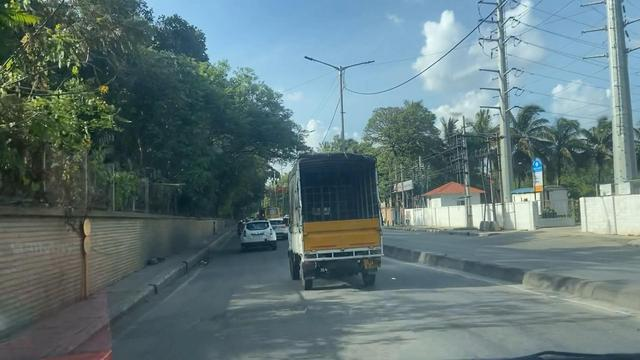HMV: (287, 157, 385, 289)
LMV: (243, 223, 275, 253)
RoadDamages: (170, 292, 357, 334)
